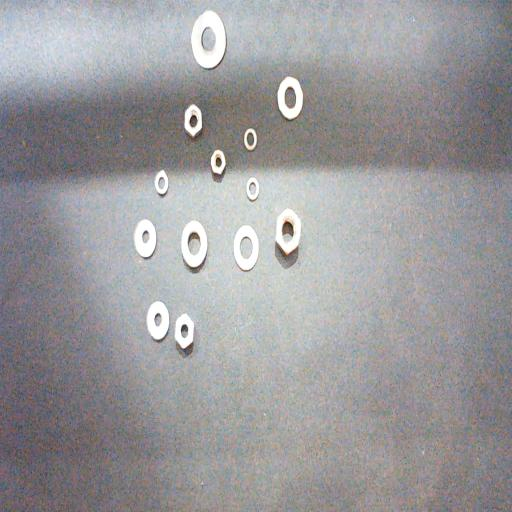nut: (276, 208, 301, 256), (175, 314, 195, 348), (184, 104, 203, 138), (210, 149, 226, 174)
washer: (191, 10, 226, 69), (181, 220, 207, 267), (234, 225, 259, 271), (278, 76, 304, 120), (134, 218, 157, 258), (147, 300, 170, 340), (155, 170, 169, 194), (244, 128, 257, 151), (246, 177, 259, 200)
